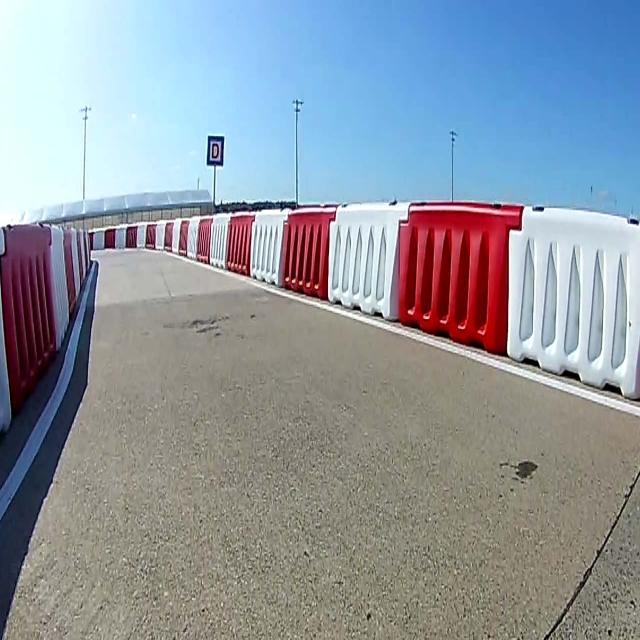durak: (207, 134, 223, 166)
